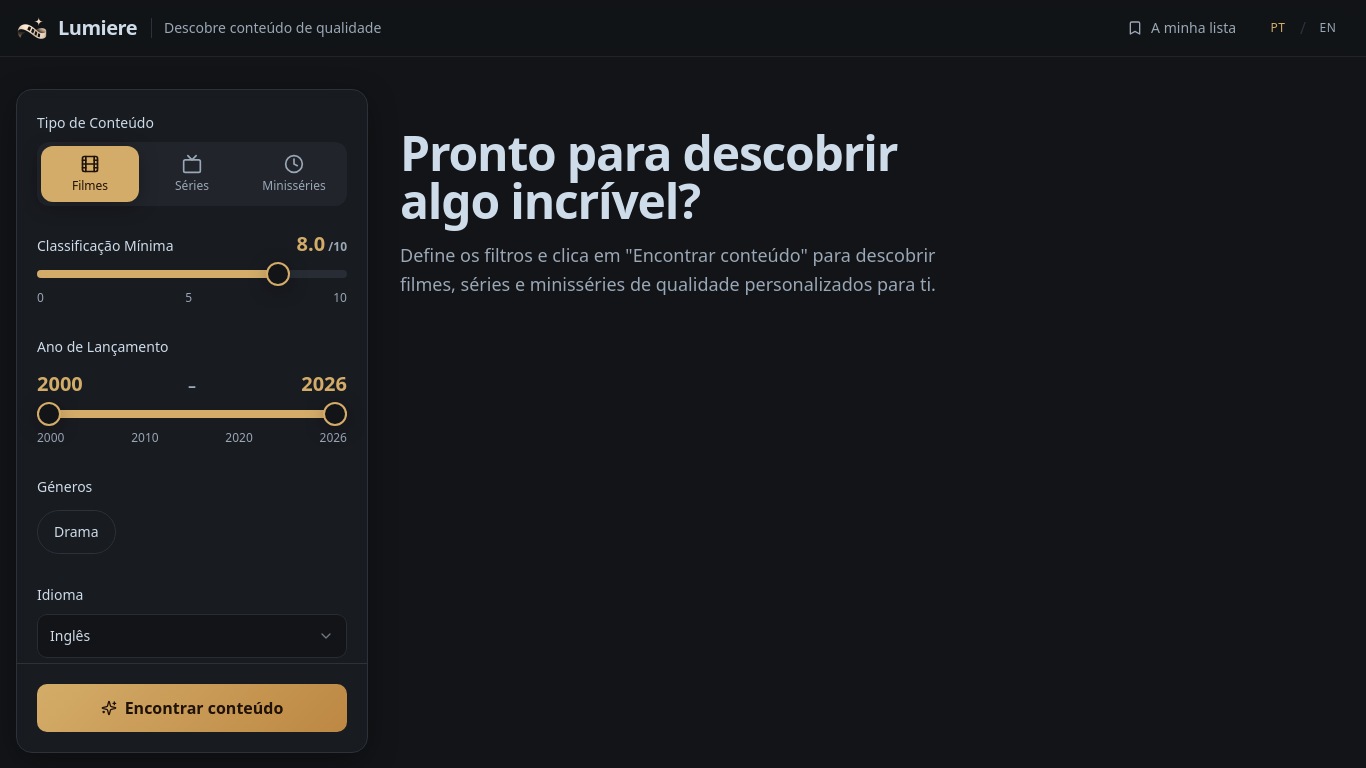
Test case: LumiereApp › tells the user when nothing matches the filters
Click the button "Encontrar conteúdo".
click(192, 708)  # box [37, 684, 347, 732]
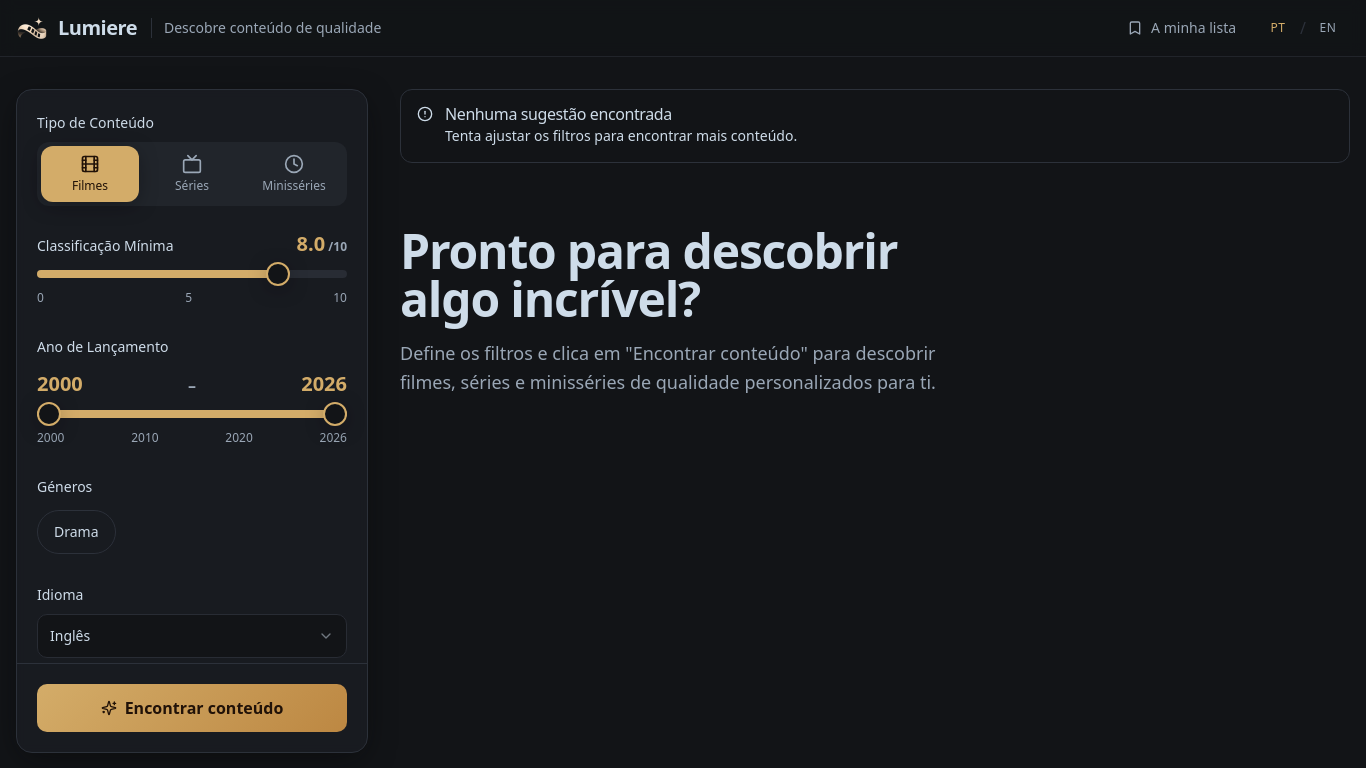
Expected: the heading "Nenhuma sugestão encontrada" is shown, [445, 103, 672, 125]
